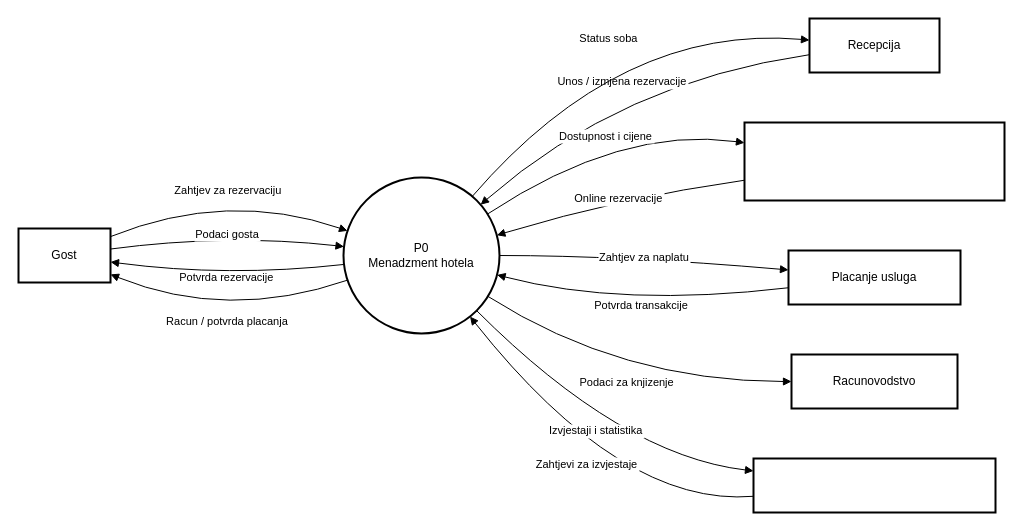
The diagram is 1022 pixels wide and 530 high, and some of its shapes have lost their labels. The shapes that lost their labels are listed below. From the top down, each one's box as (x1, y1, x2, y2) in pixels, then its label:
(743, 121, 1005, 201): Online kanali - Booking.com
(752, 457, 996, 513): Administrator - Menadžer
